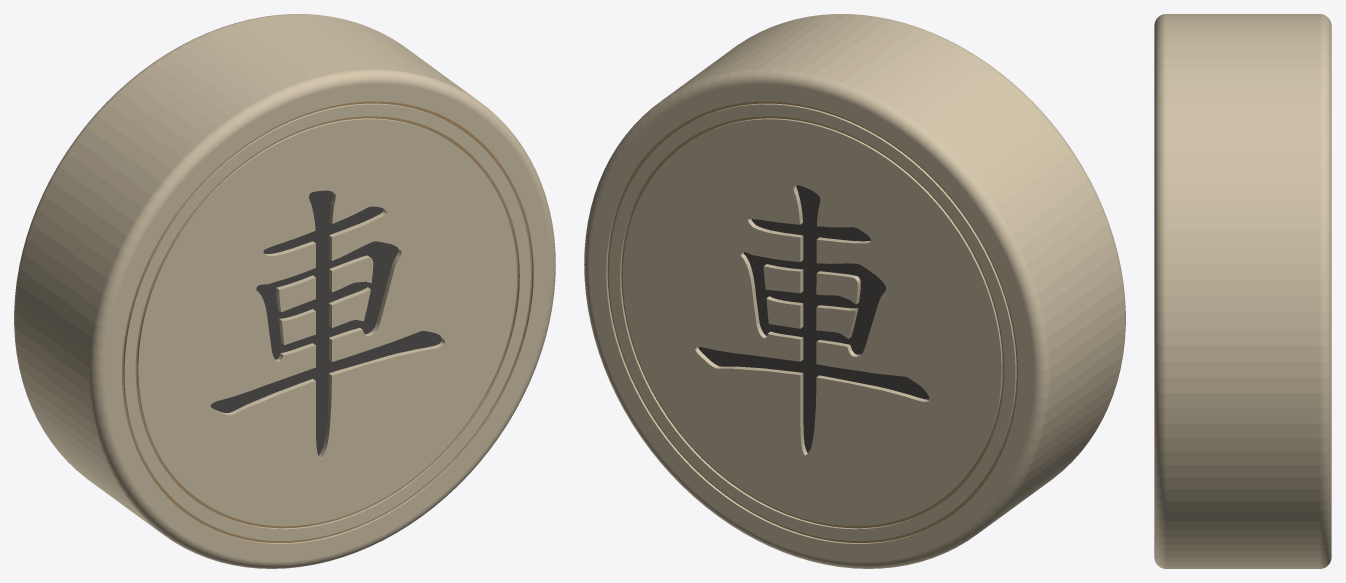
3 views of the same model, side by side, from view 1: azimuth 30°, elevation 25°; view 2: azimuth 150°, elevation 25°; view 3: azimuth 270°, elevation 25° (orthographic). The views are drawn at different scales.
Parts seen in each view (by area): view 1: wood, engraved_letters, engraved_border; view 2: wood, engraved_letters, engraved_border; view 3: wood.
Boxes of the visible parts, x1,y1,x2,y2 form: wood: (14,14,555,568); engraved_letters: (210,190,441,455); engraved_border: (122,101,532,542); wood: (584,14,1125,568); engraved_letters: (698,185,929,452); engraved_border: (607,101,1017,542); wood: (1154,14,1331,568).
Size of the model in its own units: 0.047 by 0.047 by 0.015.
